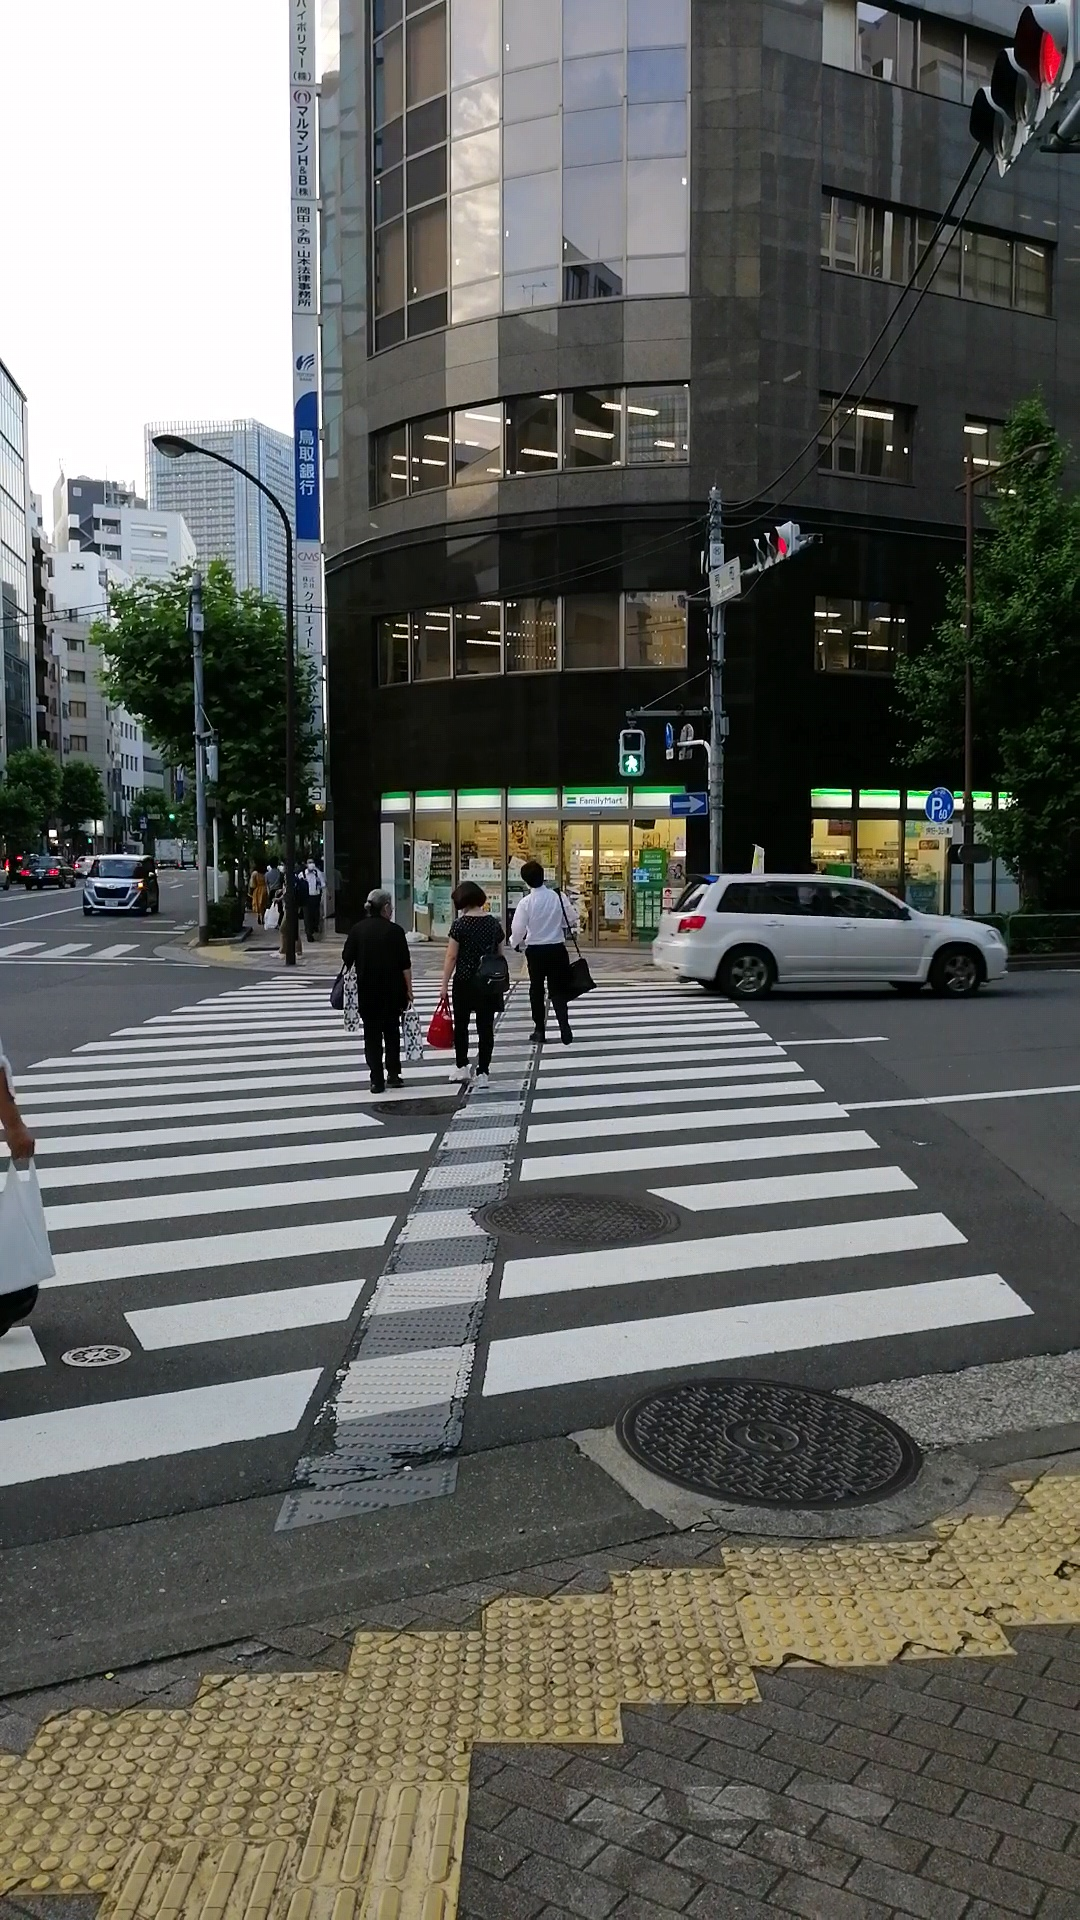green: (617, 729, 644, 778)
